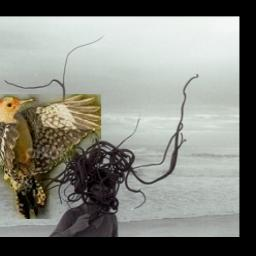Woodpecker: (0, 95, 102, 220)
